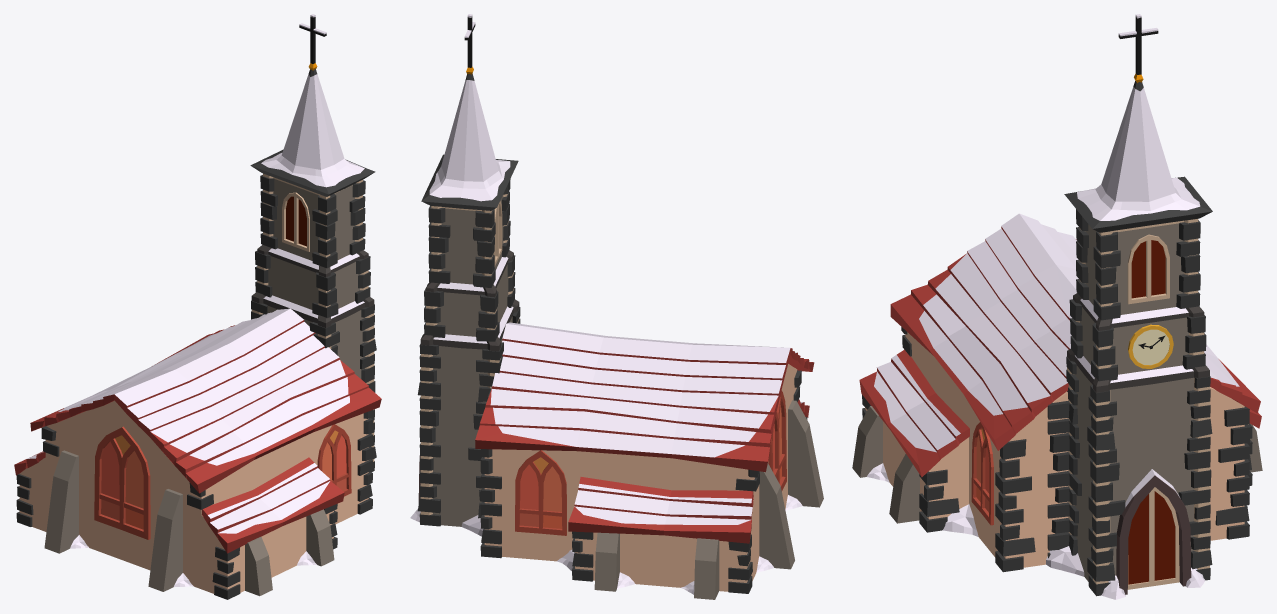
Rendered from church_lev5.glb.
The picture shows the model from 3 angles, left to right: view 1: azimuth 30°, elevation 25°; view 2: azimuth 150°, elevation 25°; view 3: azimuth 270°, elevation 25°; orthographic projection. The views are drawn at different scales.
Visible parts, largest first — view 1: Church; view 2: Church; view 3: Church.
Boxes of the visible parts, x1=… form: Church: x1=14, y1=14, x2=381, y2=599; Church: x1=410, y1=14, x2=823, y2=599; Church: x1=852, y1=14, x2=1262, y2=599.
Size of what is drawn, in the model's own units: 50.89 by 66.24 by 44.4.
1 material, 1 textured.
